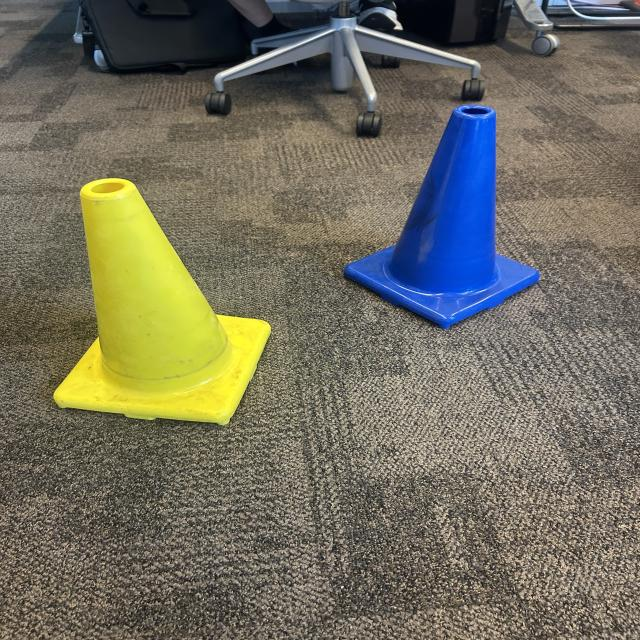blue_cone: (342, 106, 538, 327)
yellow_cone: (52, 178, 272, 424)
